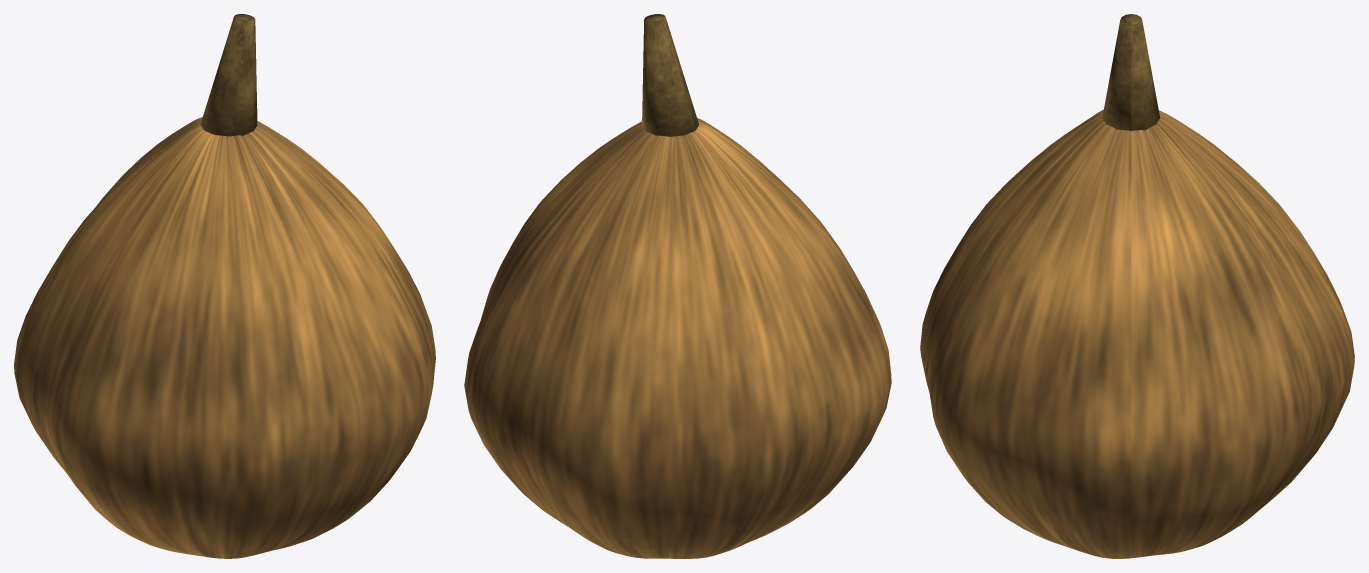
File: onion.glb
3 renders of one model, left to right at view 1: azimuth 30°, elevation 25°; view 2: azimuth 150°, elevation 25°; view 3: azimuth 270°, elevation 25°, orthographic. The views are drawn at different scales.
Visible parts, largest first — view 1: onion, dry; view 2: onion, dry; view 3: onion, dry.
Boxes of the visible parts, box(x1,y1,x2,y2) form: onion: box(14, 117, 435, 558); dry: box(200, 14, 257, 136); onion: box(464, 118, 891, 558); dry: box(642, 14, 698, 136); onion: box(920, 109, 1354, 558); dry: box(1102, 14, 1159, 130).
Bounding box in the file's own units: 0.0793 × 0.1043 × 0.0788.
2 materials, 2 textured.
